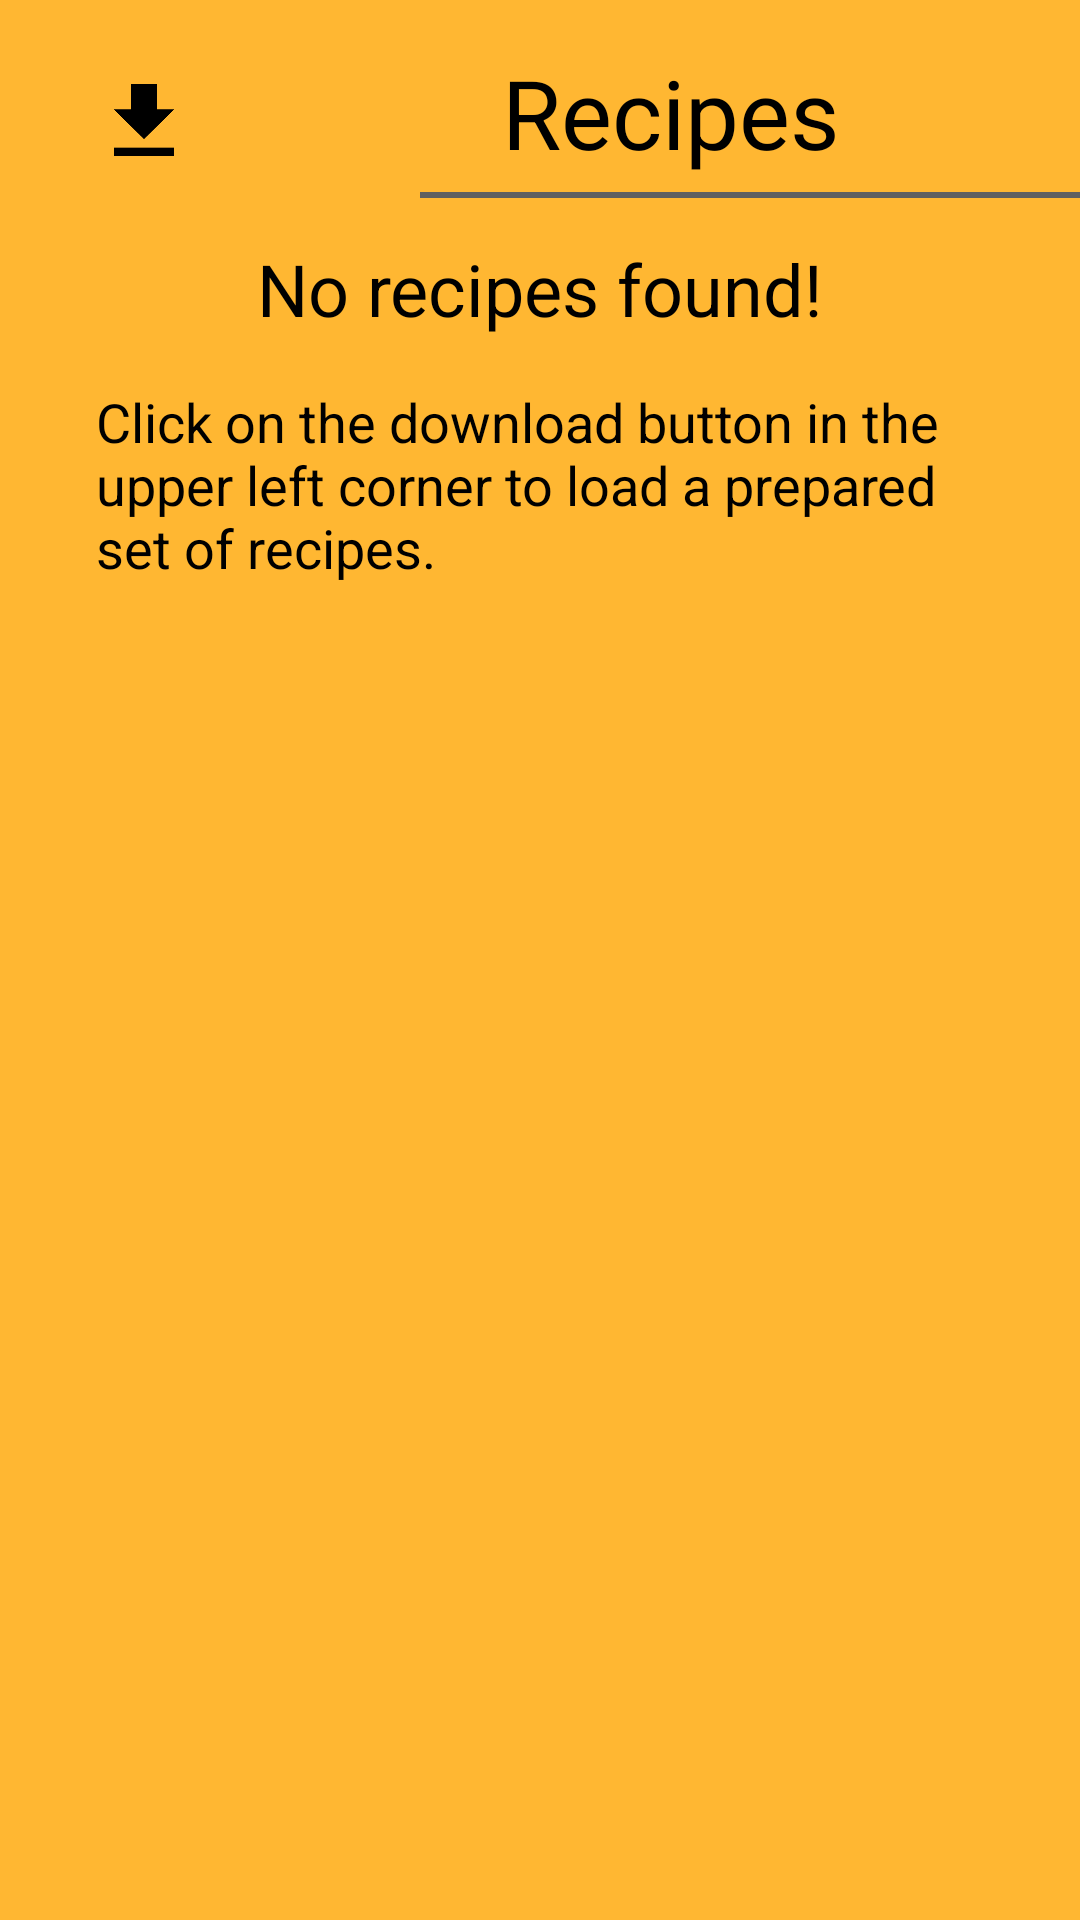

Icons on this 1080 × 1920 Android screen, each with its box as BBox(x1, y1, x2, y2):
Image of arrow: BBox(114, 84, 174, 156)
